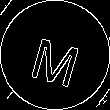M_N: (26, 24, 84, 86)
